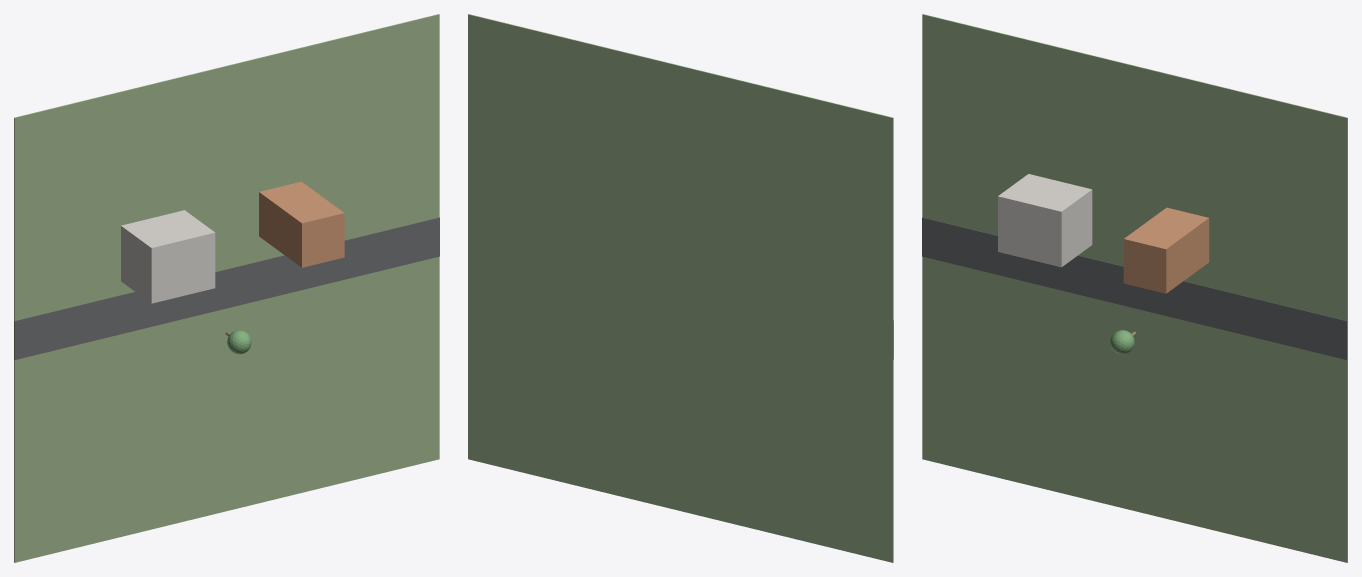
3 views of the same model, side by side, from view 1: azimuth 30°, elevation 25°; view 2: azimuth 150°, elevation 25°; view 3: azimuth 330°, elevation 25° (orthographic).
Parts seen in each view (by area): view 1: ground, road_surface, building_01_walls, building_02_walls; view 2: ground; view 3: ground, road_surface, building_01_walls, building_02_walls.
Boxes of the visible parts, x1,y1,x2,y2 form: ground: [14, 14, 439, 562]; road_surface: [14, 217, 439, 359]; building_01_walls: [121, 210, 215, 303]; building_02_walls: [259, 181, 344, 267]; ground: [468, 14, 893, 562]; ground: [922, 14, 1347, 562]; road_surface: [922, 217, 1347, 359]; building_01_walls: [998, 174, 1092, 267]; building_02_walls: [1123, 207, 1209, 293].
Size of the model in its own units: 80 by 80 by 14.2.
